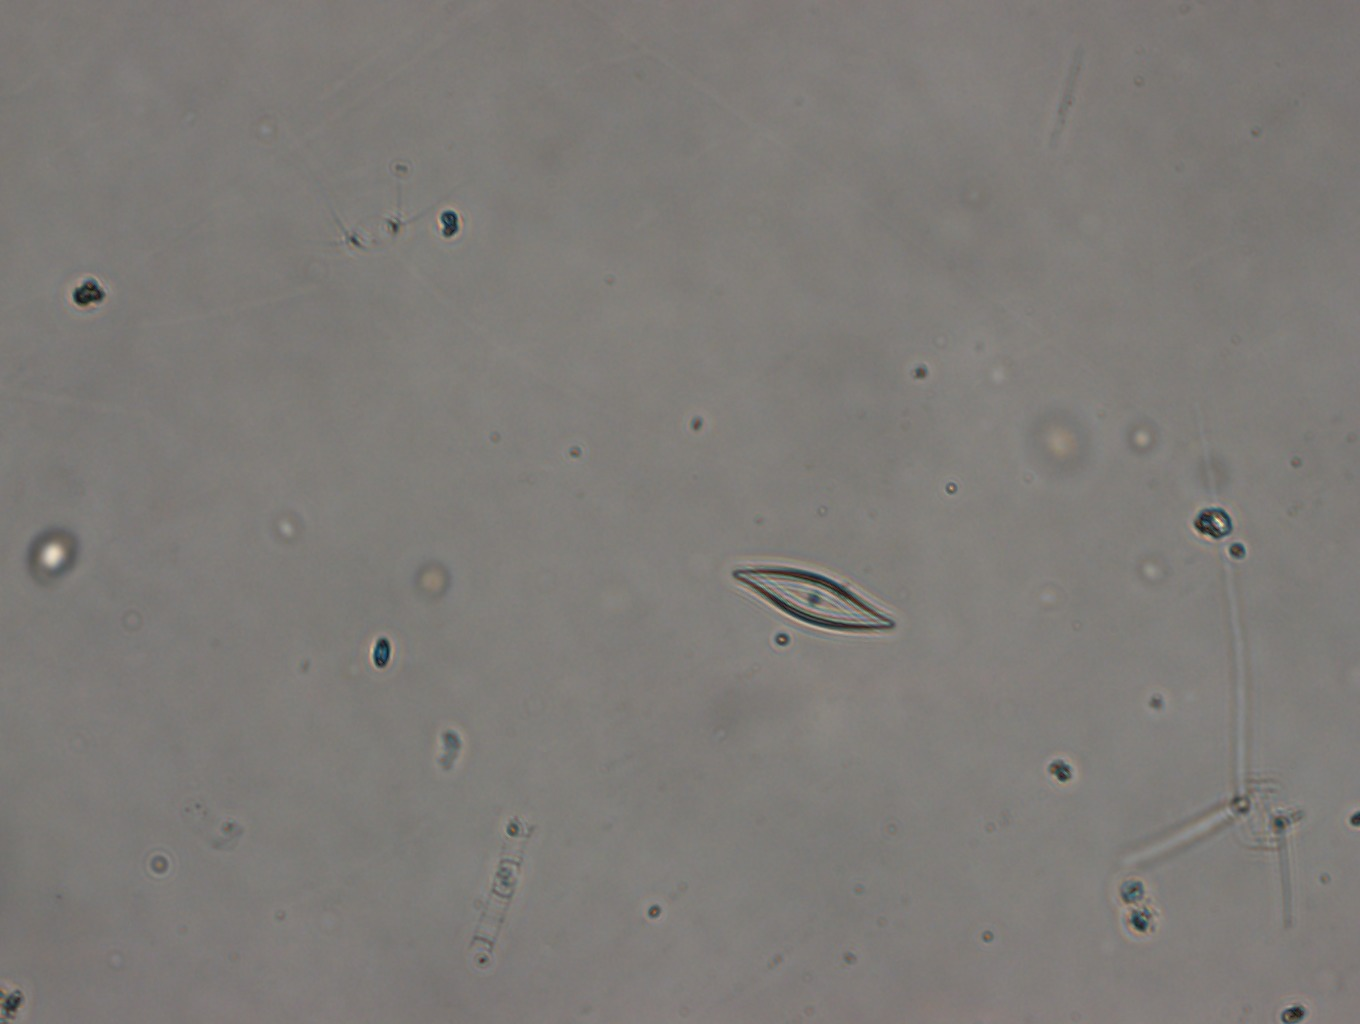pleurosigma pelagicum: (734, 547, 911, 640)
